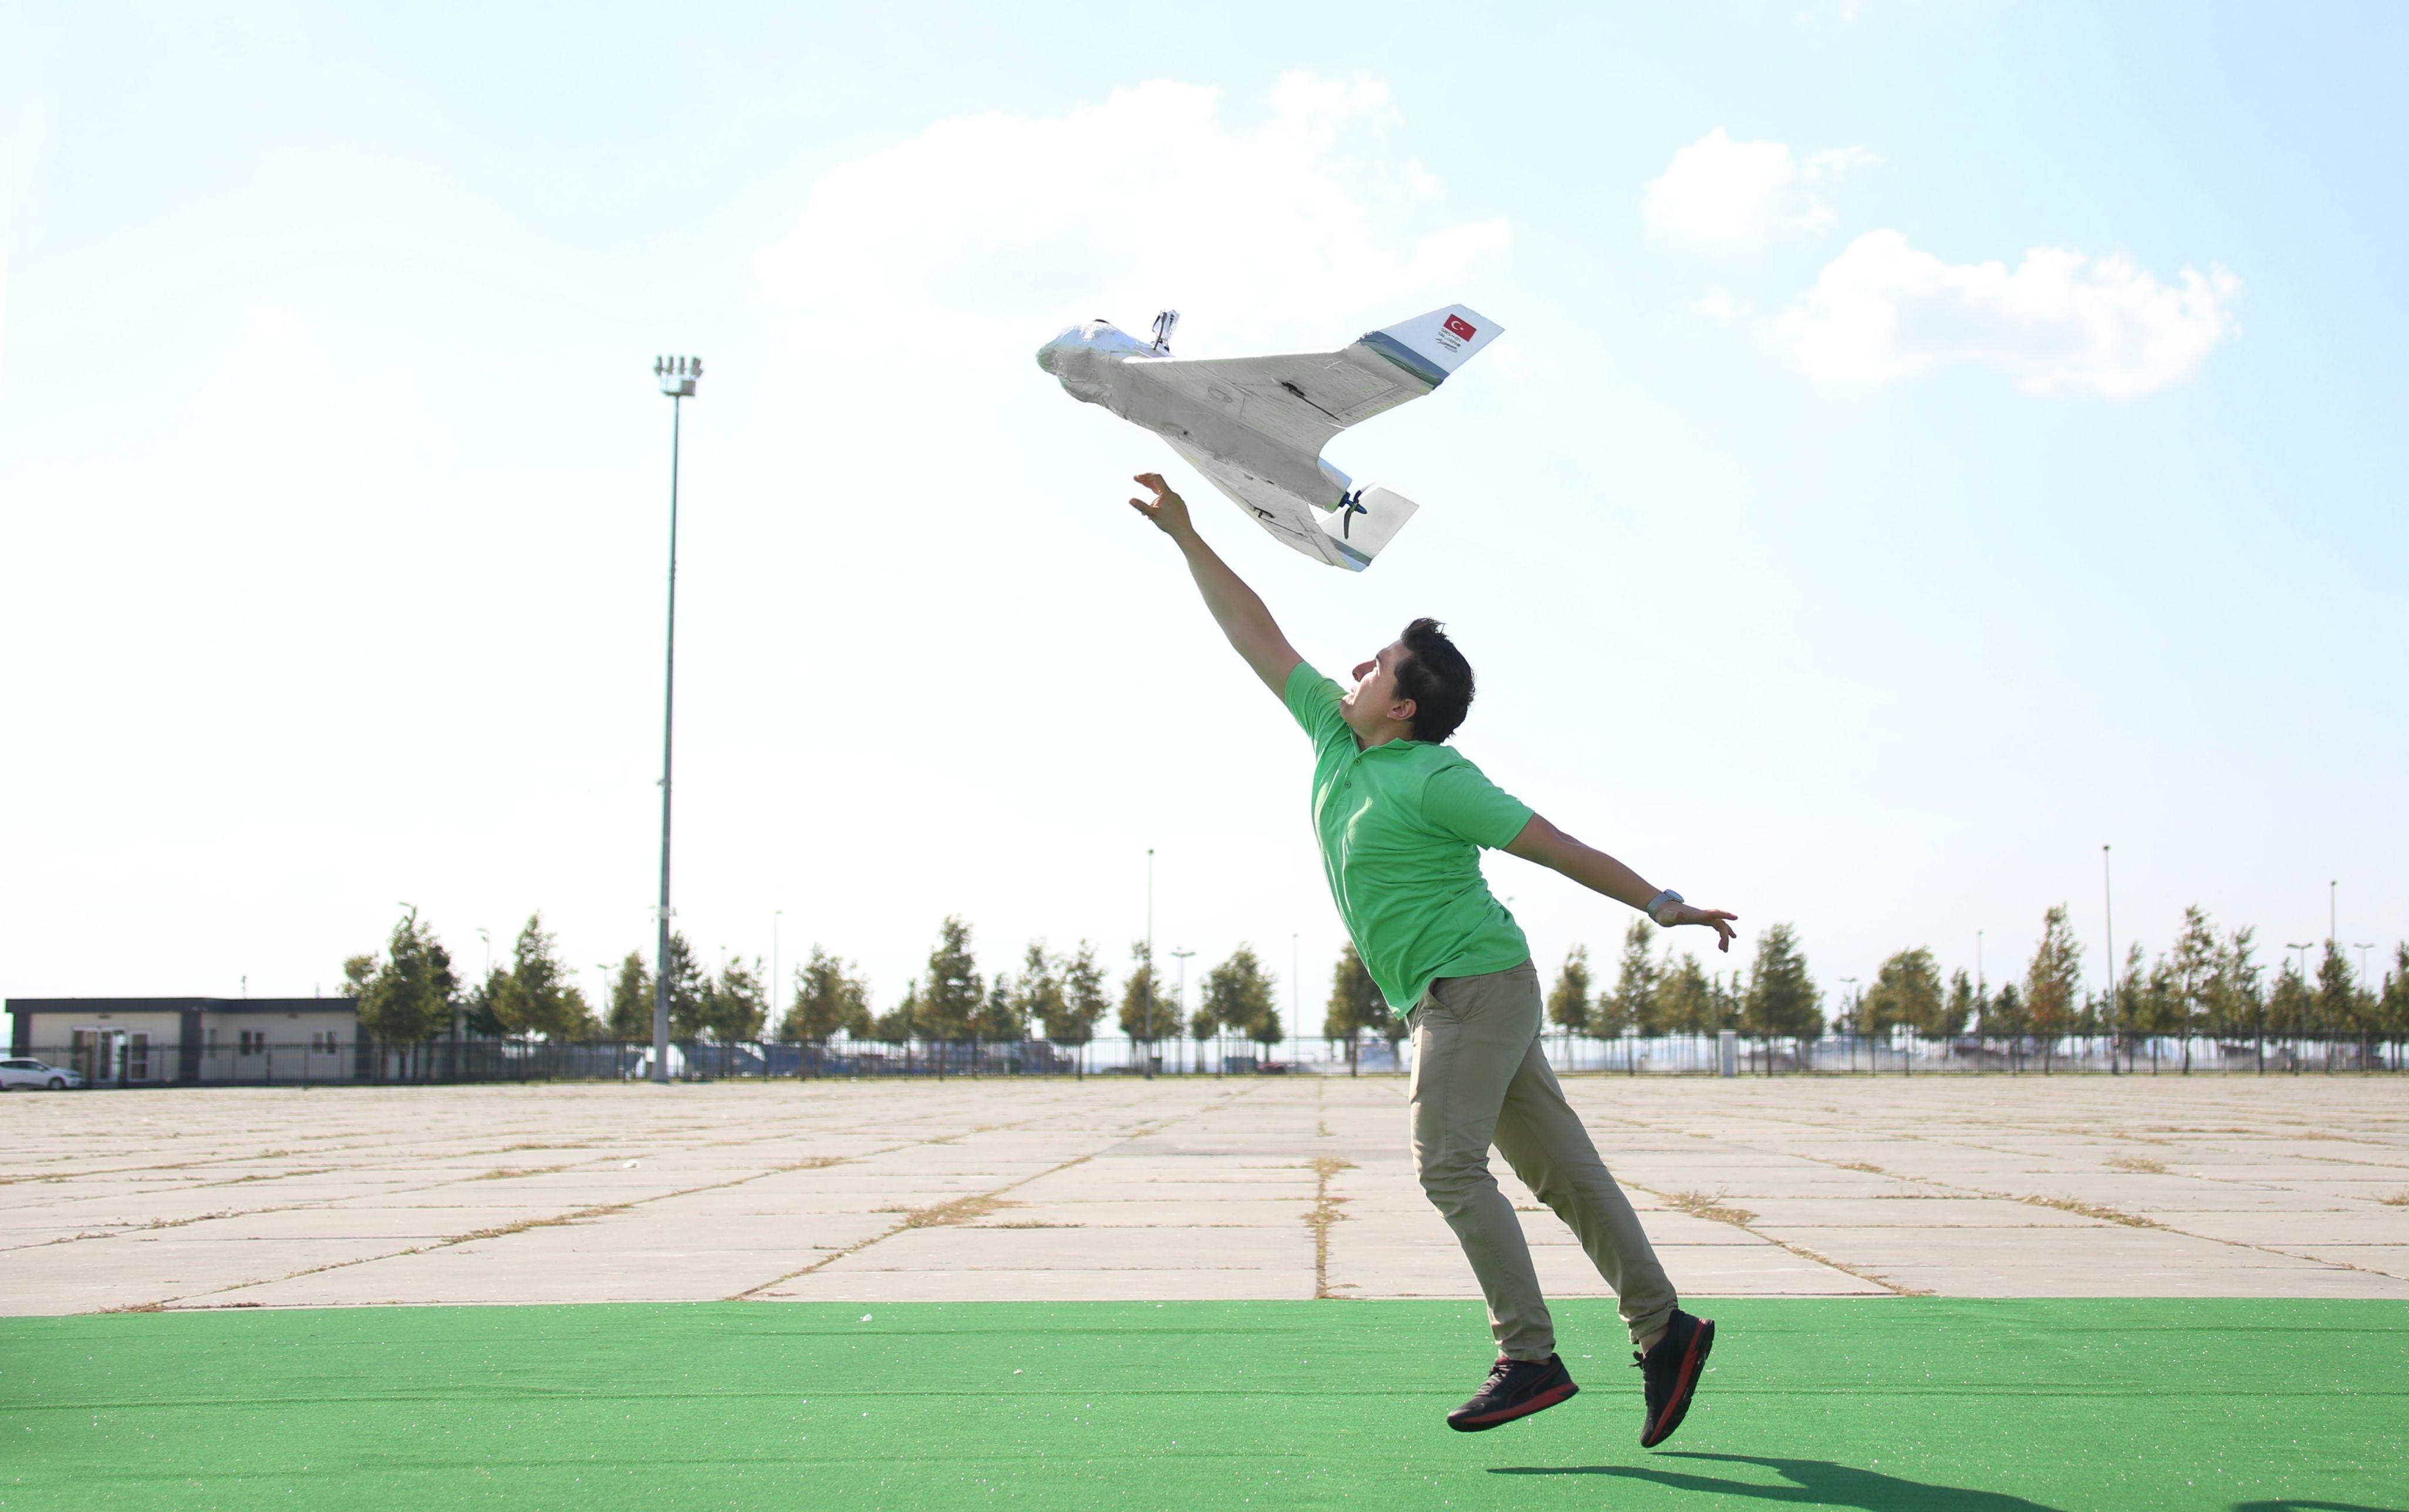Airplane: (1035, 303, 1503, 575)
